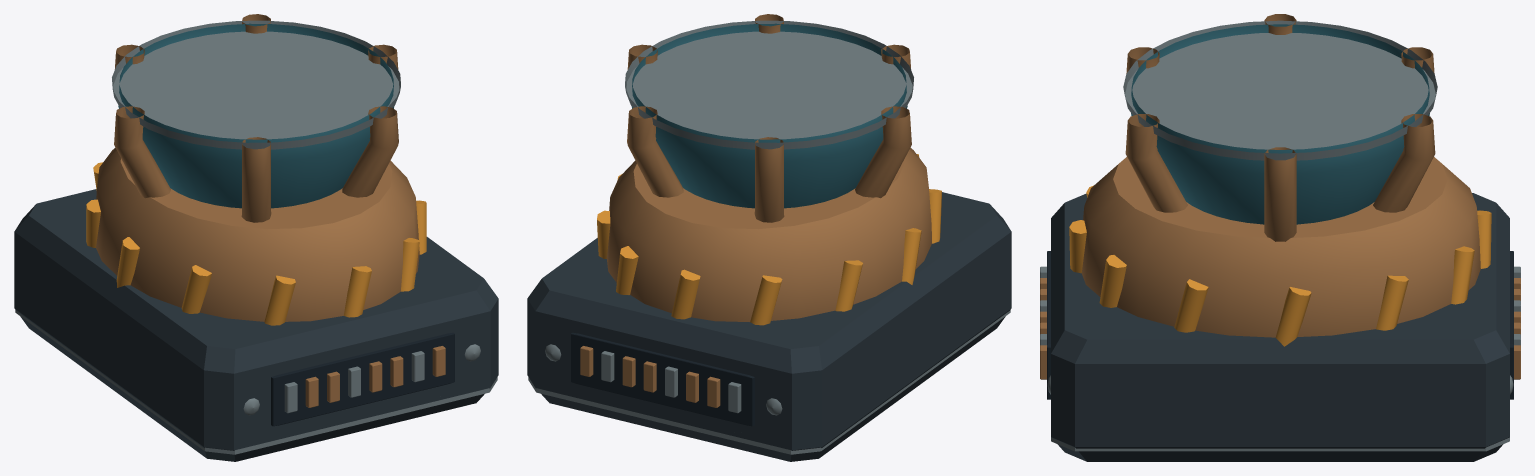
The model's file is wreck_thalassa_0.glb.
3 renders of one model, left to right at view 1: azimuth 30°, elevation 25°; view 2: azimuth 150°, elevation 25°; view 3: azimuth 270°, elevation 25°, orthographic. The views are drawn at different scales.
Visible parts, largest first — view 1: wreck_thalassa_0; view 2: wreck_thalassa_0; view 3: wreck_thalassa_0.
Boxes of the visible parts, x1,y1,x2,y2 form: wreck_thalassa_0: [14, 14, 498, 461]; wreck_thalassa_0: [527, 14, 1011, 461]; wreck_thalassa_0: [1040, 14, 1520, 461].
Size of the model in its own units: 3.2 by 2.89 by 4.17.
